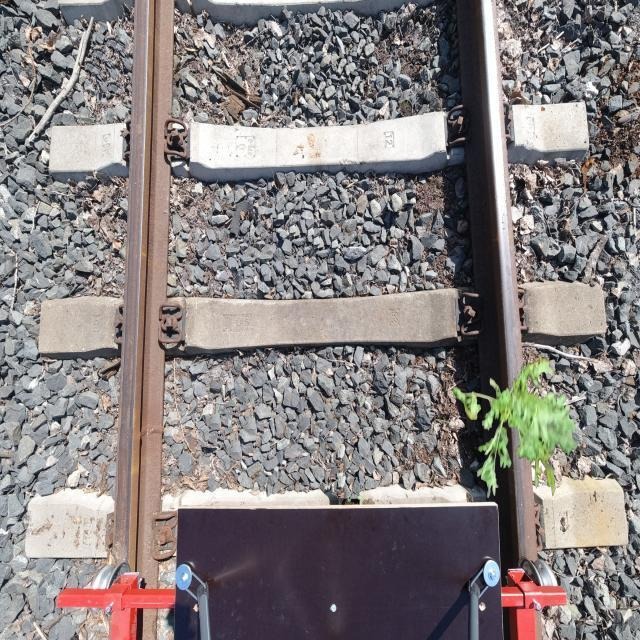Plant: (453, 352, 578, 499)
